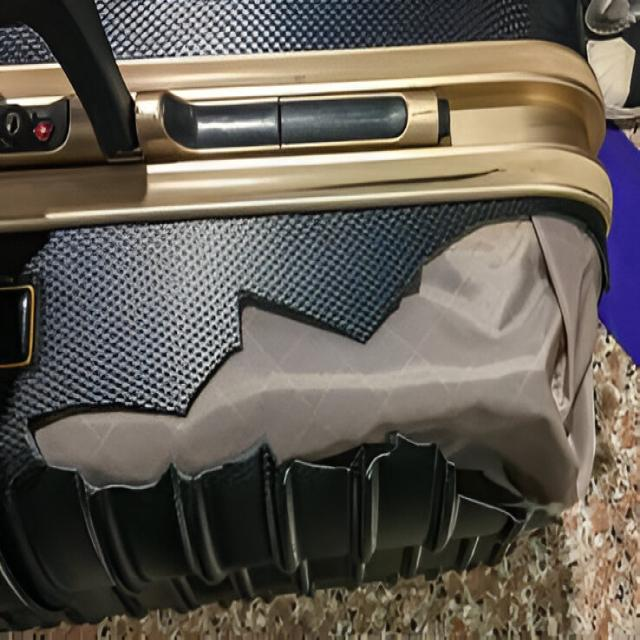Damage-bag: (36, 216, 601, 538)
